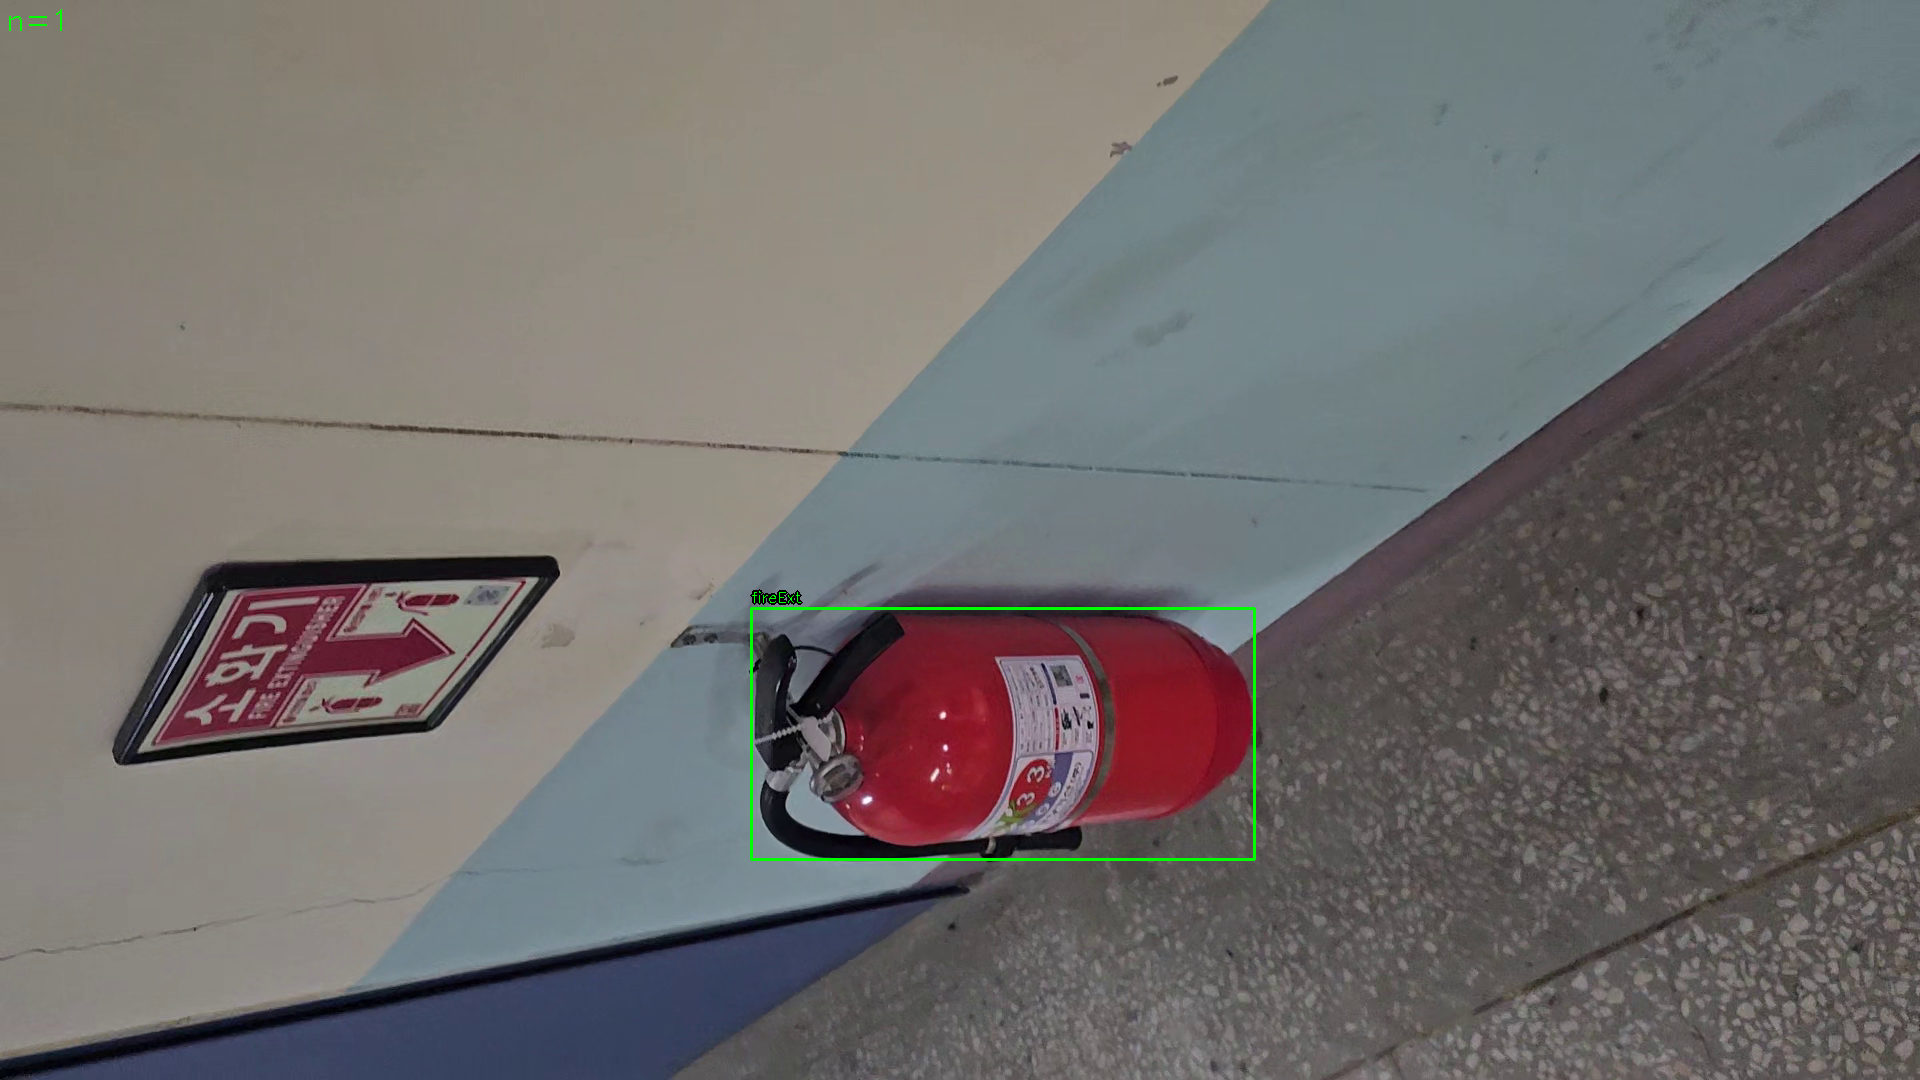lane: (752, 608, 1255, 860)
